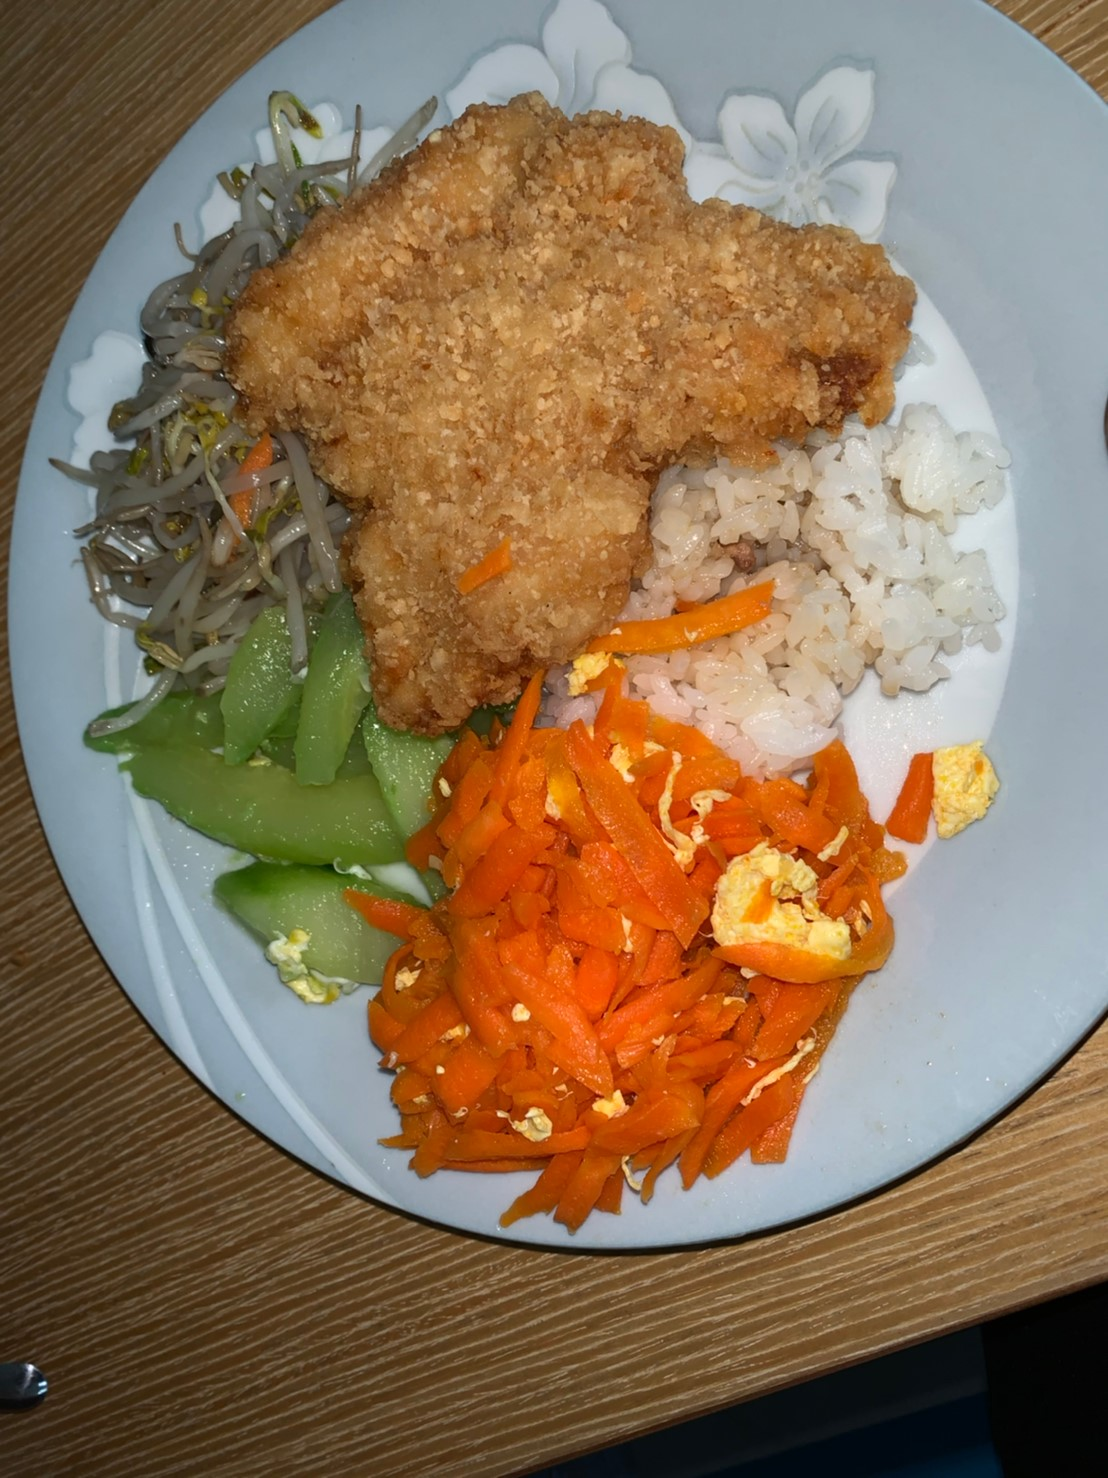carrot_eggs: (385, 744, 869, 1179)
fried_chicken: (218, 88, 919, 737)
mung_bean_sprouts: (76, 298, 322, 654)
rice: (649, 448, 1007, 770)
